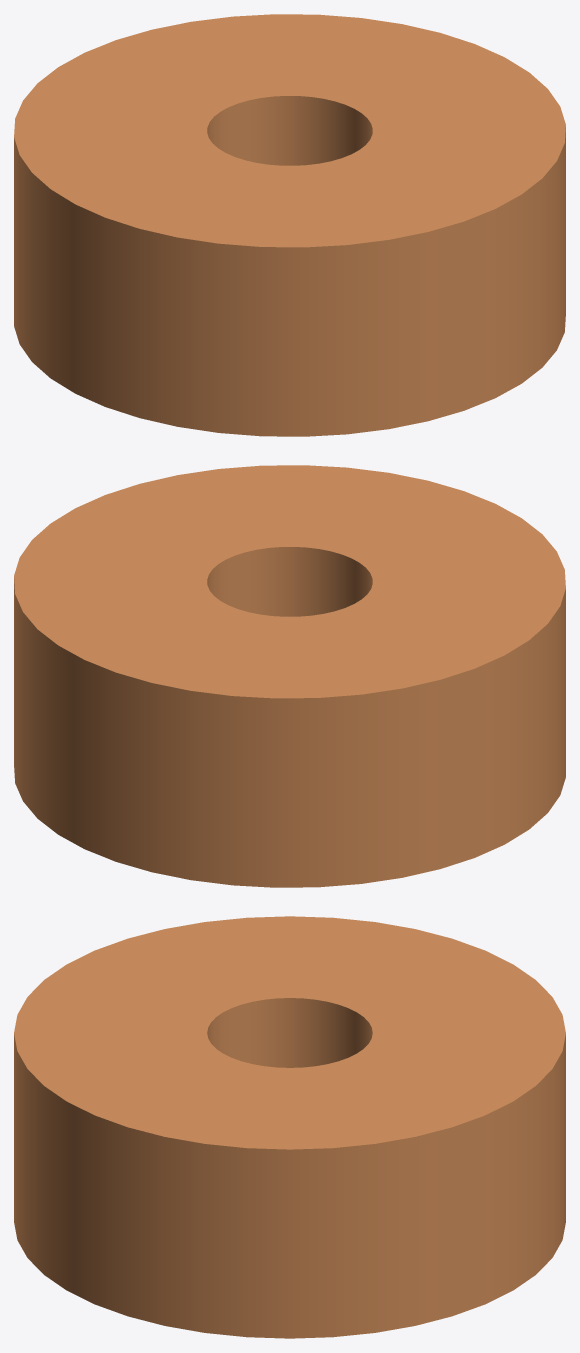
Rendered from ARANDELA_SYLOMER.fbx.
The picture shows the model from 3 angles, top to bottom: view 1: azimuth 30°, elevation 25°; view 2: azimuth 150°, elevation 25°; view 3: azimuth 270°, elevation 25°; orthographic projection.
Visible parts, largest first — view 1: ARANDELA_SYLOMER; view 2: ARANDELA_SYLOMER; view 3: ARANDELA_SYLOMER.
Boxes of the visible parts, left/top/right/bottom form: ARANDELA_SYLOMER: left=14, top=14, right=565, bottom=436; ARANDELA_SYLOMER: left=14, top=465, right=565, bottom=887; ARANDELA_SYLOMER: left=14, top=916, right=565, bottom=1338.
Size of the model in its own units: 6.6 by 2.49 by 6.6.
